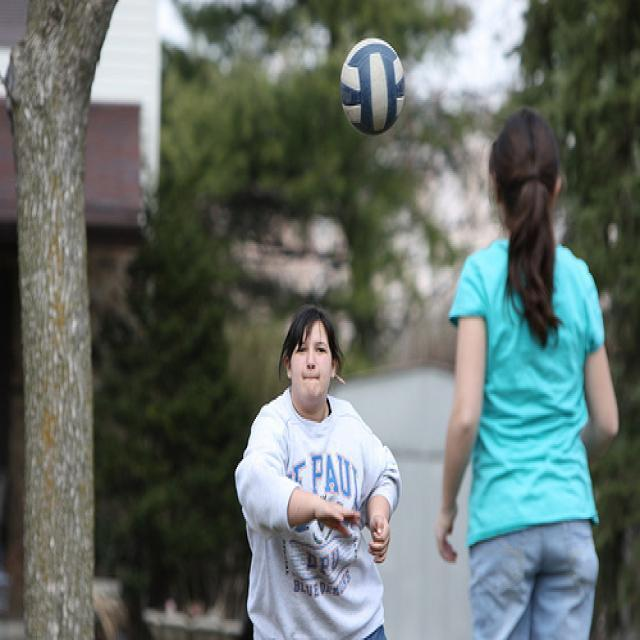volleyball: (340, 37, 406, 136)
